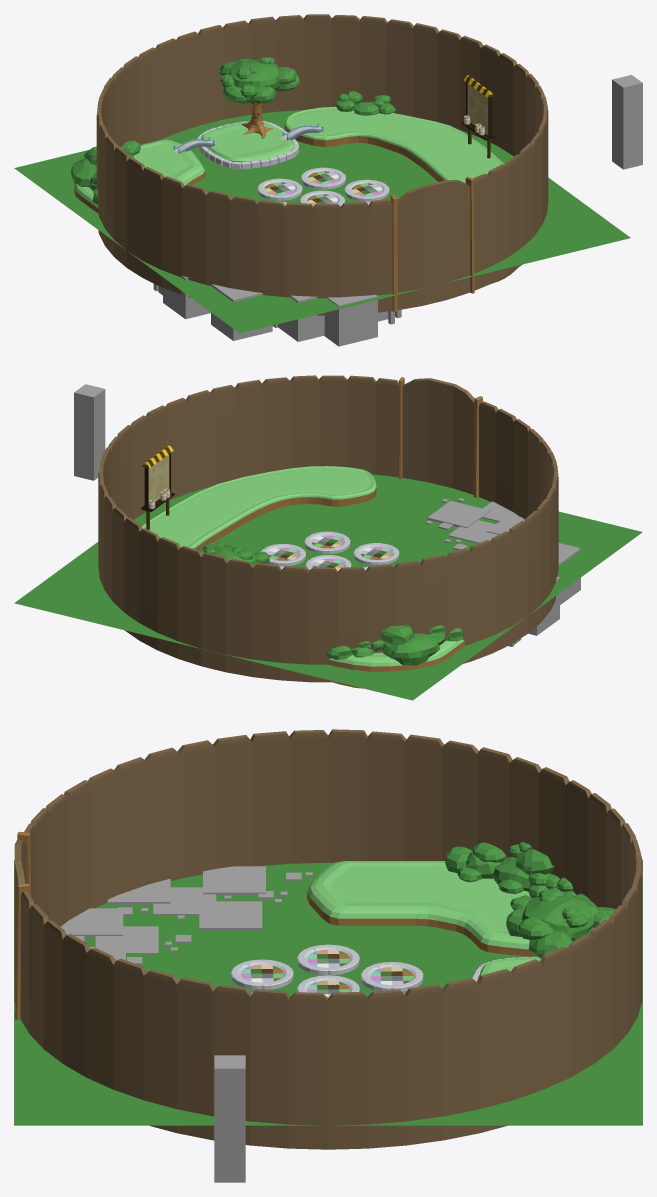
Rendered from GardenRing.fbx.
3 renders of one model, top to bottom at view 1: azimuth 30°, elevation 25°; view 2: azimuth 150°, elevation 25°; view 3: azimuth 270°, elevation 25°, orthographic. The views are drawn at different scales.
Parts seen in each view (by area): view 1: Fence, Floor, RightPlot, Person, CenterPlot, LeftPlot, pCube11, Backboard, Leaves3, pCube6, pCube4, pCube9 (+5 smaller); view 2: Fence, Floor, RightPlot, Person, LeftPlot, Backboard, Leaves26, pCube7, SteppingStone5, SteppingStone6, SteppingStone1, pCube8 (+3 smaller); view 3: Fence, Floor, LeftPlot, Person, pCube10, Leaves3, pCube9, SteppingStone6, SteppingStone2, SteppingStone3, pCube6, pCube8 (+6 smaller).
Part boxes in pixels (x1,y1,x2,y2): Fence: [96, 14, 548, 315]; Floor: [14, 110, 630, 333]; RightPlot: [284, 106, 517, 283]; Person: [612, 75, 642, 169]; CenterPlot: [201, 121, 295, 162]; LeftPlot: [74, 139, 205, 213]; pCube11: [324, 294, 377, 346]; Backboard: [462, 75, 495, 140]; Leaves3: [229, 59, 280, 90]; pCube6: [277, 295, 324, 341]; pCube4: [211, 284, 272, 340]; pCube9: [163, 276, 210, 319]; Fence: [98, 375, 558, 682]; Floor: [14, 474, 642, 700]; RightPlot: [142, 466, 376, 550]; Person: [74, 384, 105, 480]; LeftPlot: [328, 639, 464, 688]; Backboard: [141, 445, 174, 511]; Leaves26: [382, 633, 439, 665]; pCube7: [427, 501, 490, 527]; SteppingStone5: [304, 531, 350, 553]; SteppingStone6: [353, 543, 399, 565]; SteppingStone1: [260, 544, 305, 566]; pCube8: [448, 520, 497, 543]; Fence: [14, 729, 642, 1149]; Floor: [14, 860, 642, 1125]; LeftPlot: [307, 861, 537, 956]; Person: [214, 1055, 245, 1182]; pCube10: [199, 901, 262, 930]; Leaves3: [521, 895, 599, 941]; pCube9: [203, 866, 265, 895]; SteppingStone6: [231, 959, 293, 989]; SteppingStone2: [297, 944, 359, 975]; SteppingStone3: [360, 962, 423, 991]; pCube6: [61, 908, 123, 937]; pCube8: [95, 926, 158, 954].
Size of the model in its own units: 1214 by 343 by 1000.
Materials: 5 (4 with a texture image).
